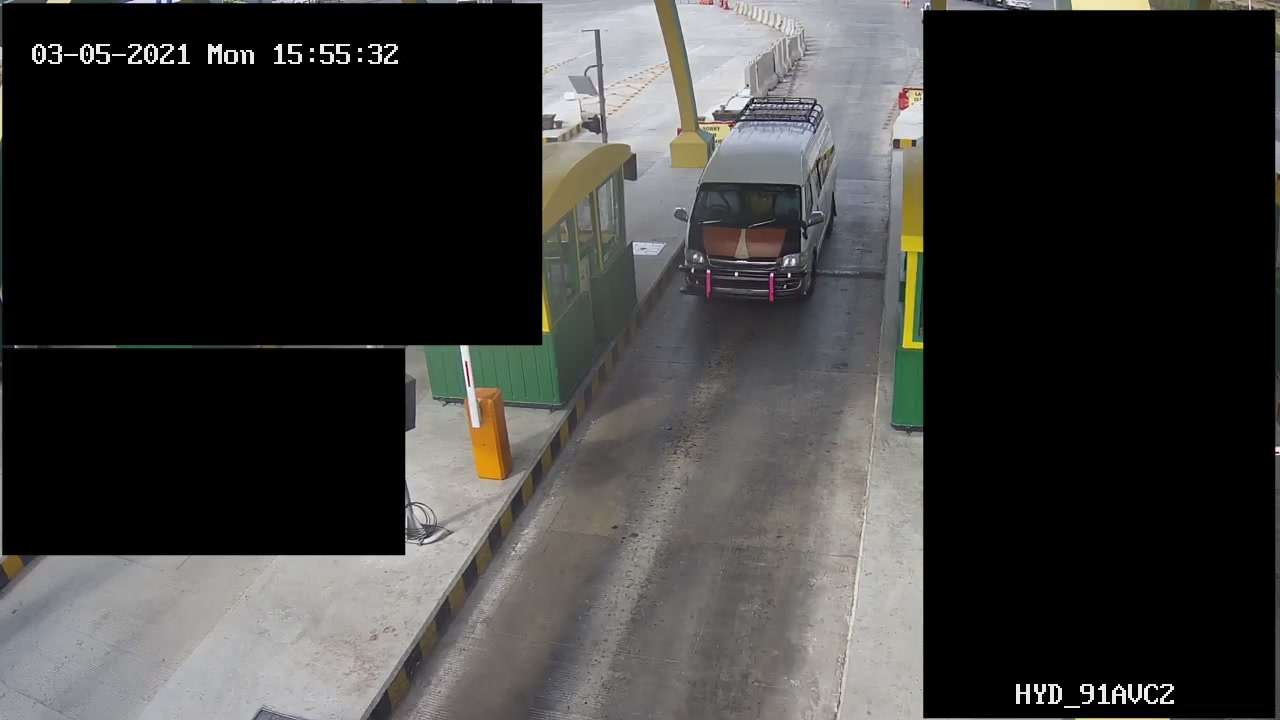F2: (677, 92, 842, 304)
